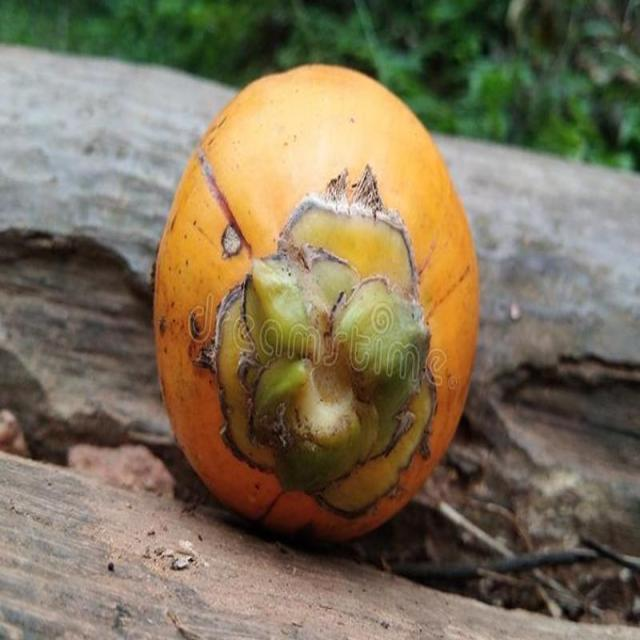good: (153, 64, 481, 548)
